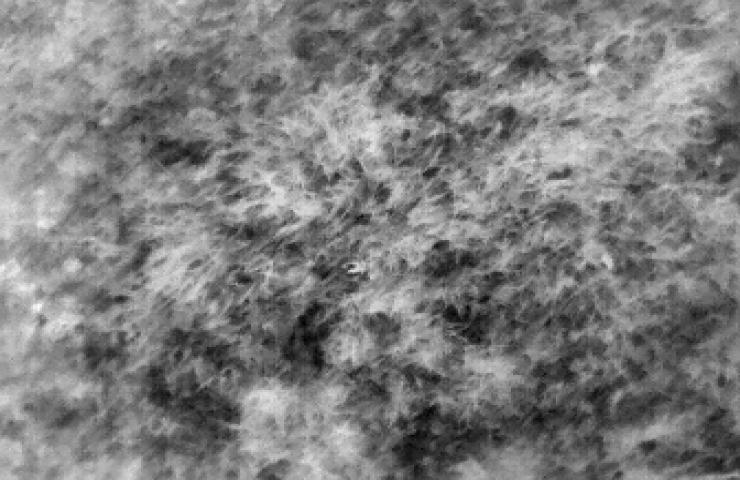landmines: (333, 251, 370, 285)
